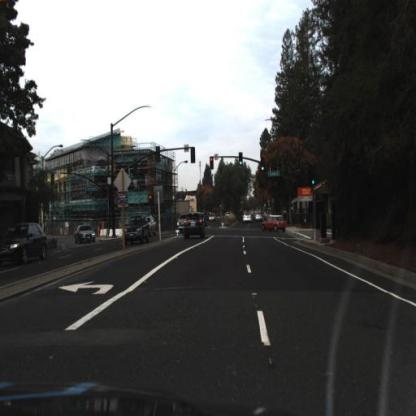car: (1, 219, 50, 270), (121, 215, 153, 243), (181, 209, 207, 241), (258, 212, 288, 235), (73, 222, 97, 249), (177, 213, 193, 239), (144, 215, 158, 242)
trafficLight-Green: (261, 158, 267, 176), (239, 152, 244, 169), (312, 172, 317, 189)
trafficLight-RedLeft: (210, 156, 214, 170)
